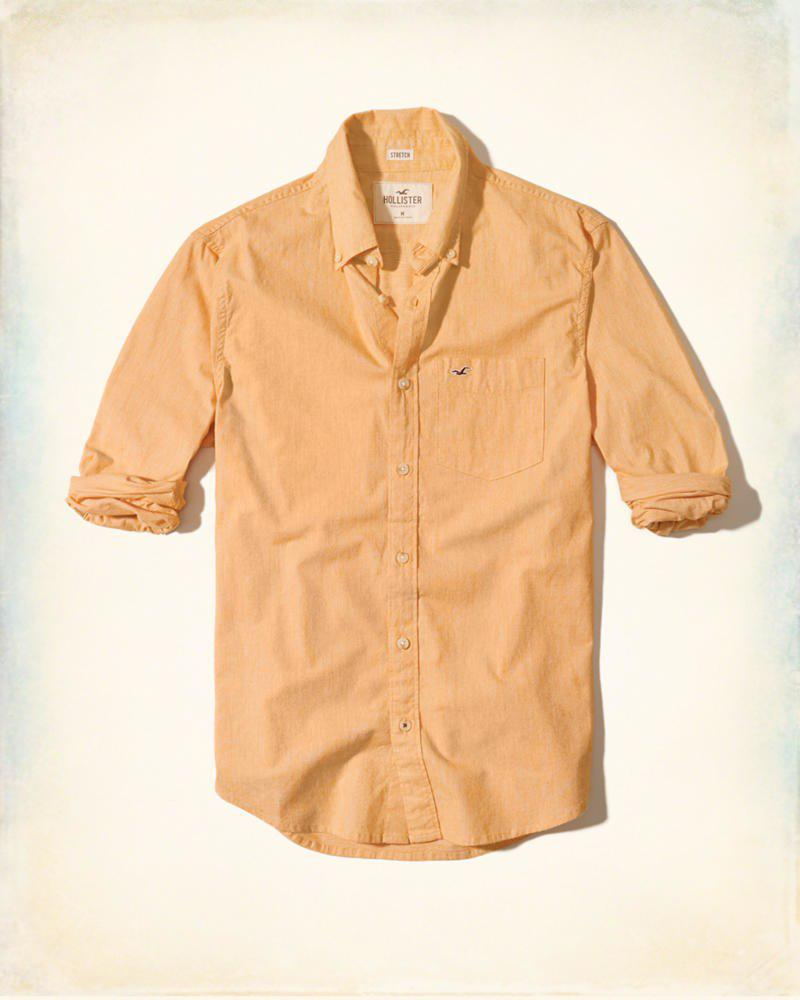teeshirt: (71, 106, 747, 856)
